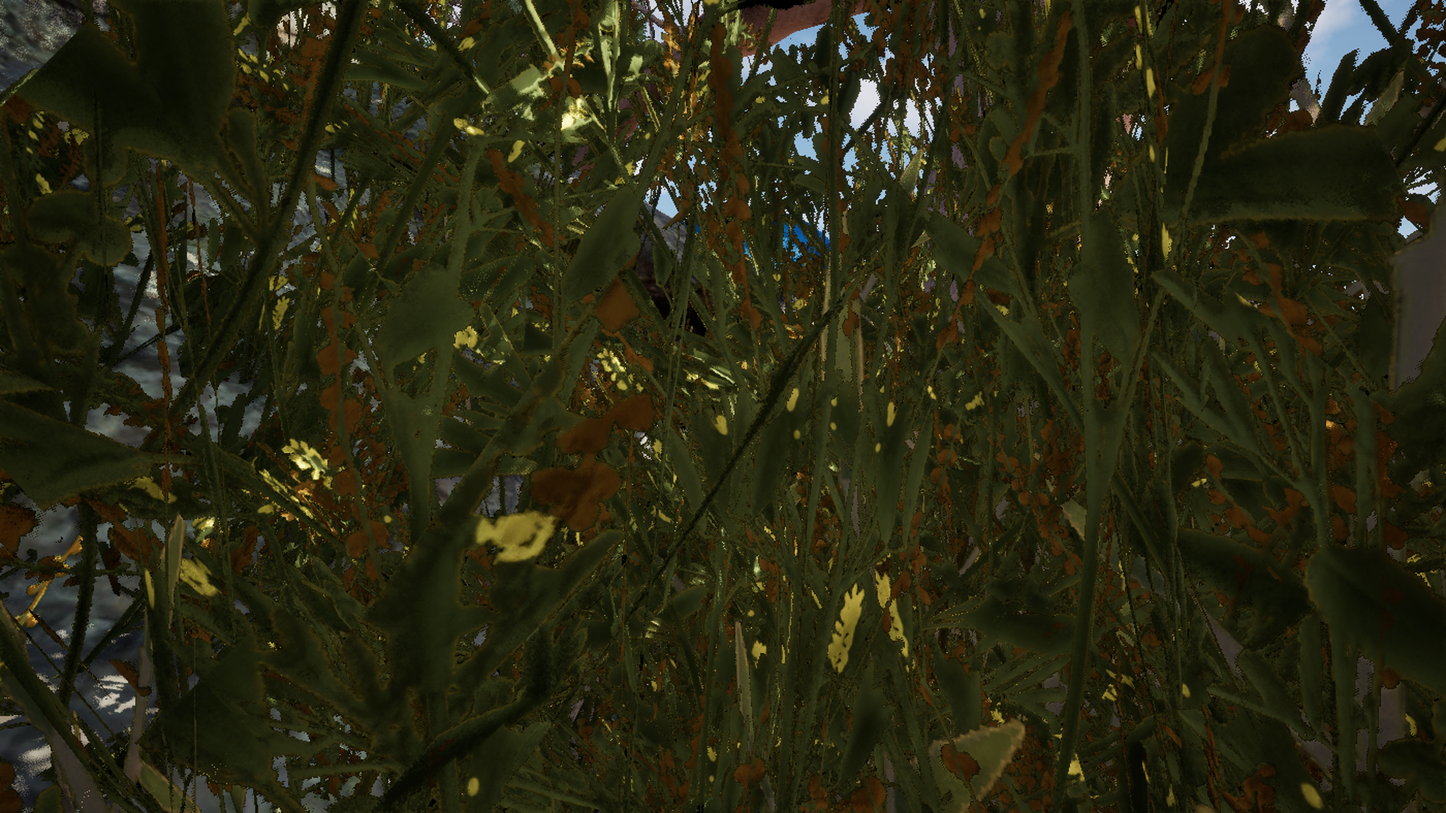Piplup: (212, 0, 1173, 813)
